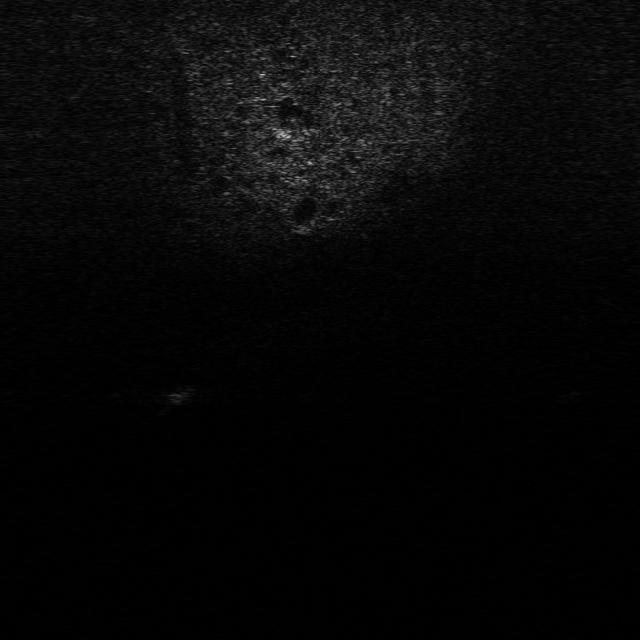cylinder: (153, 380, 203, 422)
